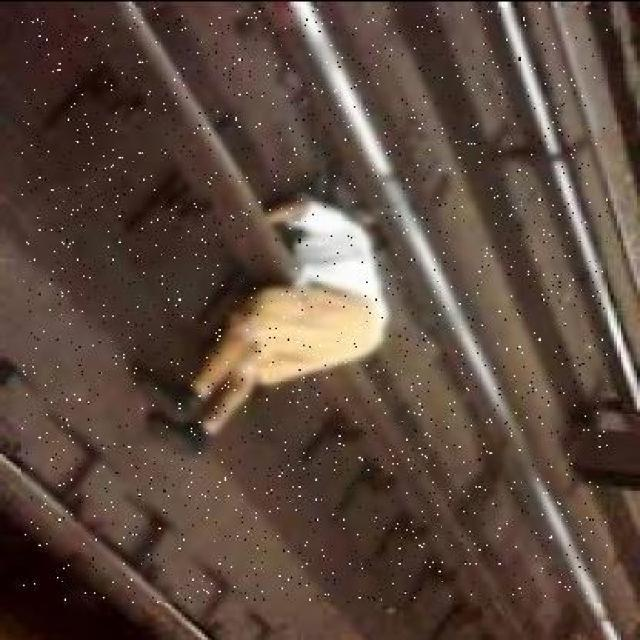danger: (132, 185, 395, 451)
rail: (82, 4, 637, 640), (466, 0, 640, 467)
